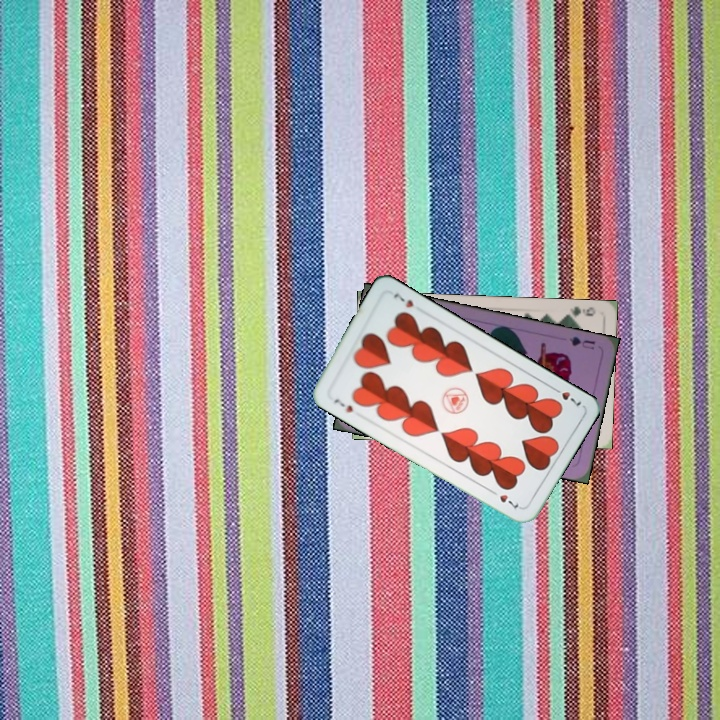G9: (560, 302, 598, 322)
GU: (564, 332, 598, 352)
H7: (548, 383, 584, 409), (330, 394, 355, 415)
